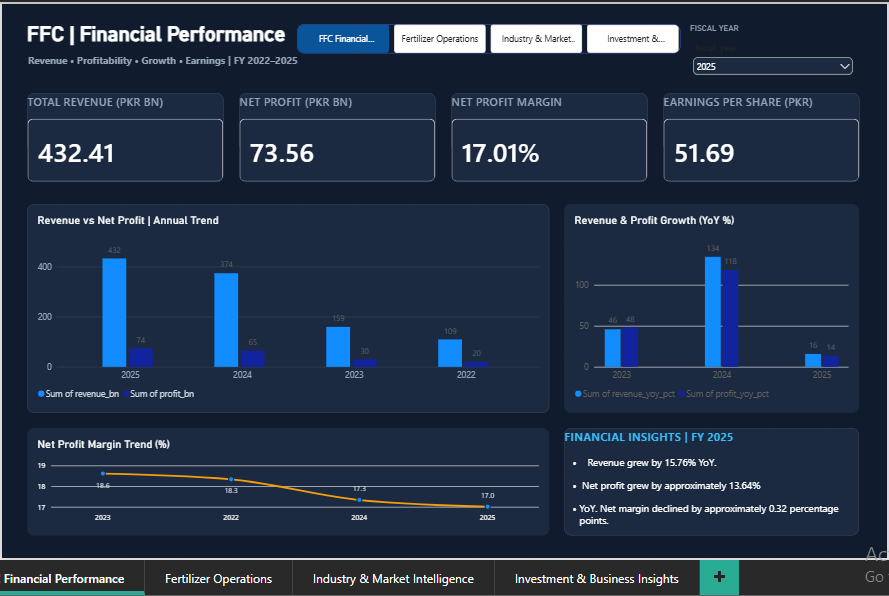

Layout of this report page (visuals, bound fields, positions):
{"tool":"powerbi","page":{"name":"FFC Financial Performance","canvas":[1440,900],"ordinal":0},"visuals":[{"type":"textbox","title":"FFC | Financial Performance","box":[40,30,850,48],"z":0},{"type":"textbox","box":[42,82,850,30],"z":1000},{"type":"slicer","title":"FISCAL YEAR","fields":{"Values":["public vw_ffc_financial_performance.fiscal_year"]},"box":[1120,32,270,95],"z":2000},{"type":"cardVisual","title":"TOTAL REVENUE (PKR BN)","fields":{"Data":["public vw_ffc_financial_performance.Total Revenue (Bn)"]},"box":[40,145,320,145],"z":3000},{"type":"cardVisual","title":"NET PROFIT (PKR BN)","fields":{"Data":["public vw_ffc_financial_performance.Total Net Profit (Bn)"]},"box":[385,145,320,145],"z":4000},{"type":"cardVisual","title":"NET PROFIT MARGIN","fields":{"Data":["public vw_ffc_financial_performance.Net Profit Margin KPI"]},"box":[730,145,320,145],"z":5000},{"type":"cardVisual","title":"EARNINGS PER SHARE (PKR)","fields":{"Data":["public vw_ffc_financial_performance.EPS KPI"]},"box":[1075,145,320,145],"z":6000},{"type":"clusteredColumnChart","title":"Revenue vs Net Profit | Annual Trend","fields":{"Category":["public vw_ffc_financial_performance.fiscal_year"],"Y":["Sum(public vw_ffc_financial_performance.revenue_bn)","Sum(public vw_ffc_financial_performance.profit_bn)"]},"box":[40,325,850,340],"z":7000},{"type":"clusteredColumnChart","title":"Revenue & Profit Growth (YoY %)","fields":{"Category":["public vw_ffc_financial_performance.fiscal_year"],"Y":["Sum(public vw_ffc_financial_performance.revenue_yoy_pct)","Sum(public vw_ffc_financial_performance.profit_yoy_pct)"]},"box":[915,325,480,340],"z":8000},{"type":"lineChart","title":"Net Profit Margin Trend (%)","fields":{"Category":["public vw_ffc_financial_performance.fiscal_year"],"Y":["Sum(public vw_ffc_financial_performance.net_profit_margin_pct)"]},"box":[40,690,850,175],"z":9000},{"type":"textbox","box":[915,690,480,175],"z":10000},{"type":"pageNavigator","box":[480,32,624,48],"z":10001}]}

Visuals, with their boxes on the page's 1440x900 design canvas (x1, y1, x2, y2). These are canvas units, not pixel positions in the 889x596 screenshot, which may show the page scaled, cropped or inside an application window:
"FFC | Financial Performance" textbox: <box>40,30,890,78</box>
textbox: <box>42,82,892,112</box>
"FISCAL YEAR" slicer: <box>1120,32,1390,127</box>
"TOTAL REVENUE (PKR BN)" cardVisual: <box>40,145,360,290</box>
"NET PROFIT (PKR BN)" cardVisual: <box>385,145,705,290</box>
"NET PROFIT MARGIN" cardVisual: <box>730,145,1050,290</box>
"EARNINGS PER SHARE (PKR)" cardVisual: <box>1075,145,1395,290</box>
"Revenue vs Net Profit | Annual Trend" clusteredColumnChart: <box>40,325,890,665</box>
"Revenue & Profit Growth (YoY %)" clusteredColumnChart: <box>915,325,1395,665</box>
"Net Profit Margin Trend (%)" lineChart: <box>40,690,890,865</box>
textbox: <box>915,690,1395,865</box>
pageNavigator: <box>480,32,1104,80</box>
